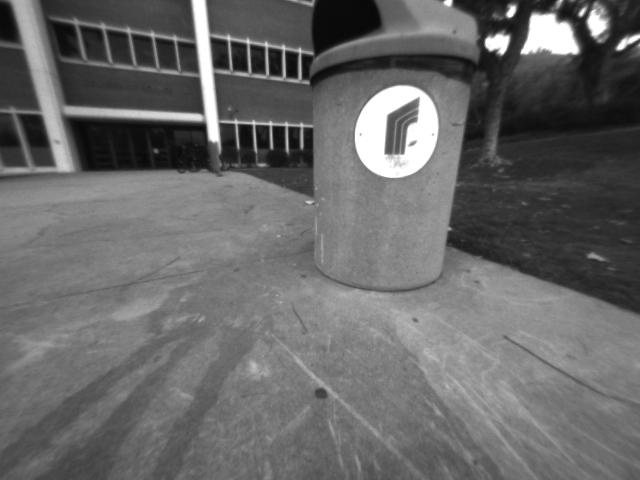trashcan: (267, 3, 505, 304)
